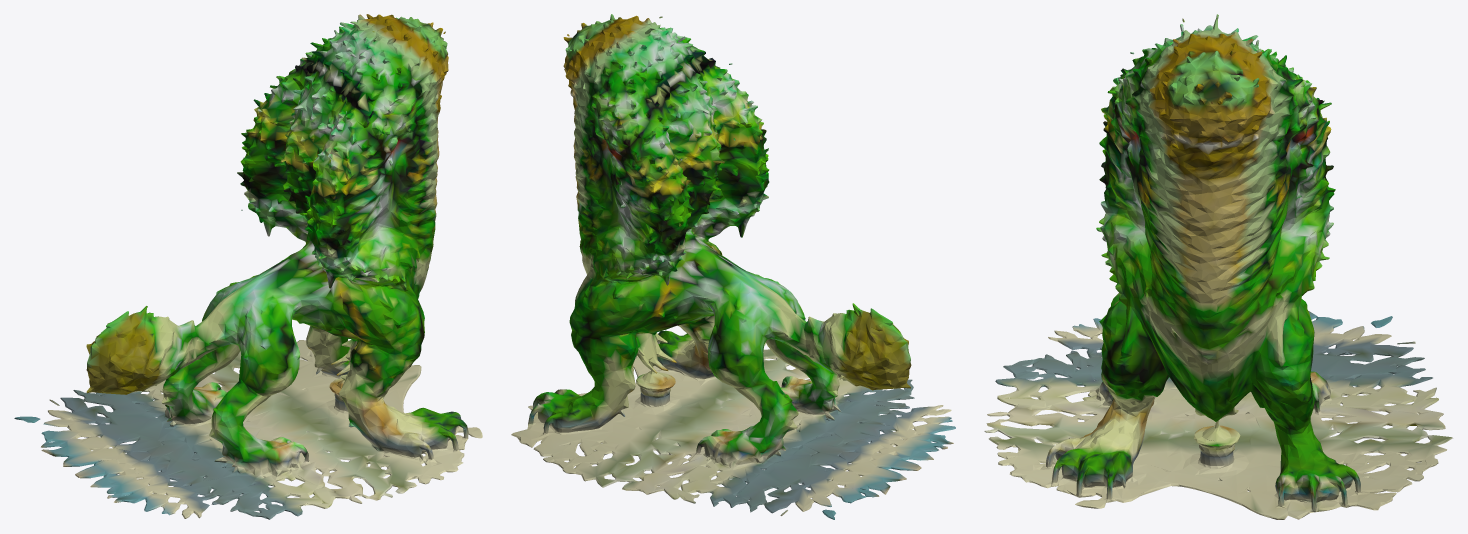
The model's file is redSlime.glb.
The picture shows the model from 3 angles, left to right: view 1: azimuth 30°, elevation 25°; view 2: azimuth 150°, elevation 25°; view 3: azimuth 270°, elevation 25°; orthographic projection. The views are drawn at different scales.
Parts seen in each view (by area): view 1: world; view 2: world; view 3: world.
Boxes of the visible parts, box(x1,y1,x2,y2) form: world: box(14, 14, 482, 519); world: box(511, 14, 955, 519); world: box(984, 14, 1452, 519).
Size of the model in its own units: 0.9972 by 1 by 0.9399.
